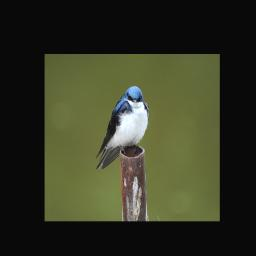Swallow: (95, 85, 150, 170)
